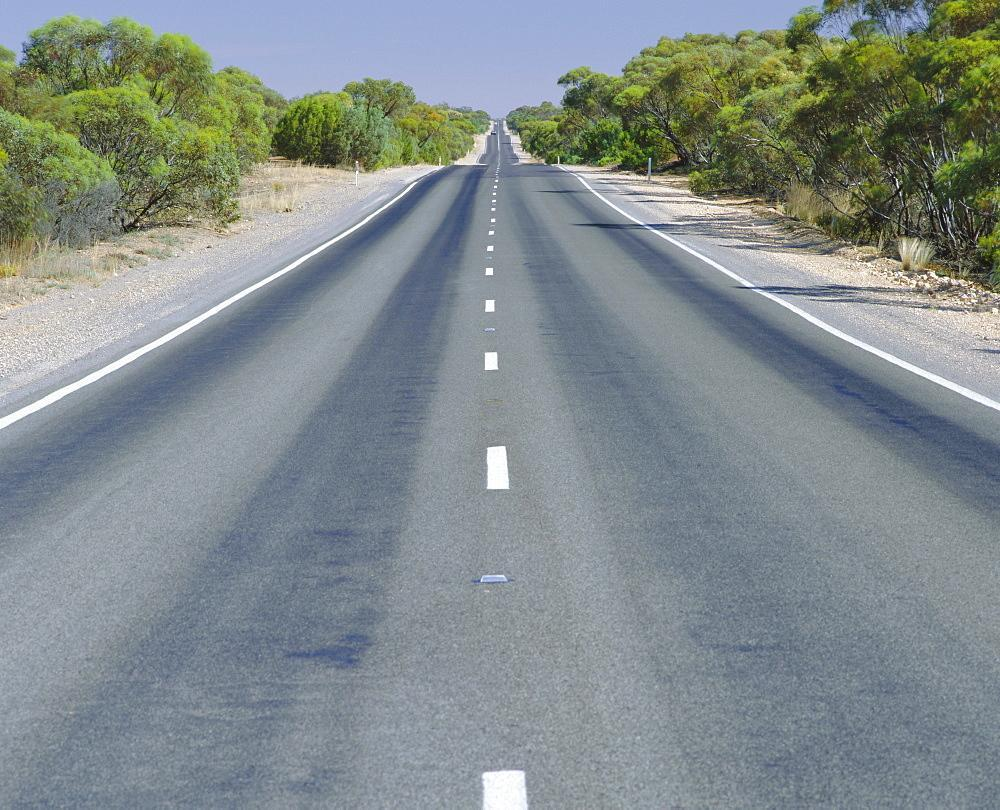undergroundlamp: (474, 568, 516, 589), (481, 324, 499, 335), (482, 253, 497, 261), (490, 222, 498, 227)
